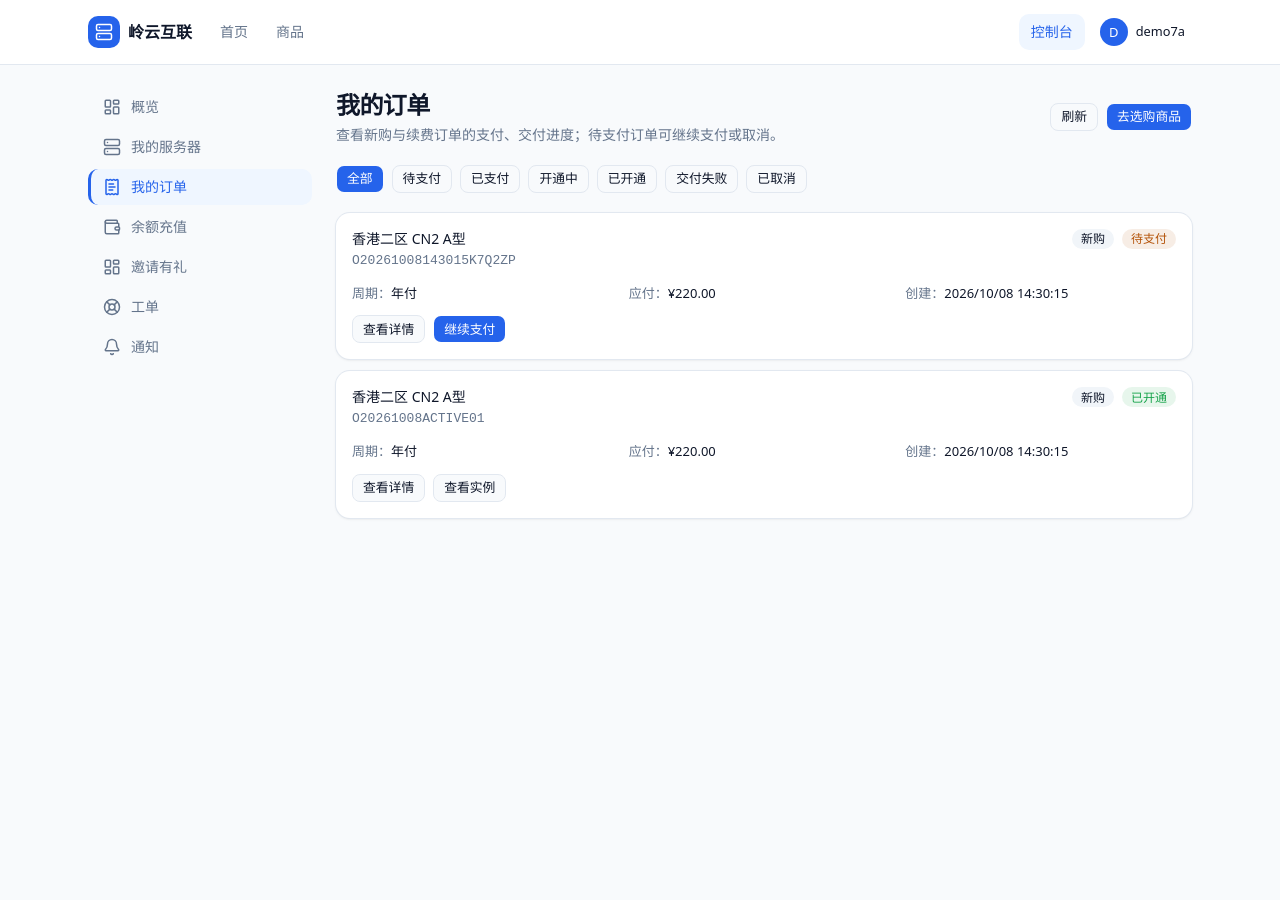
Test case: 会员区 · 我的订单 › 取消订单需二次确认，确认后提交取消请求并收起详情
The width and height of the screenshot is (1280, 900).
Expected: the heading "我的订单" is shown, [336,88,430,121]
Click the button "查看详情" below "O20261008143015K7Q2ZP" at (389, 329), box [352,315,425,343]
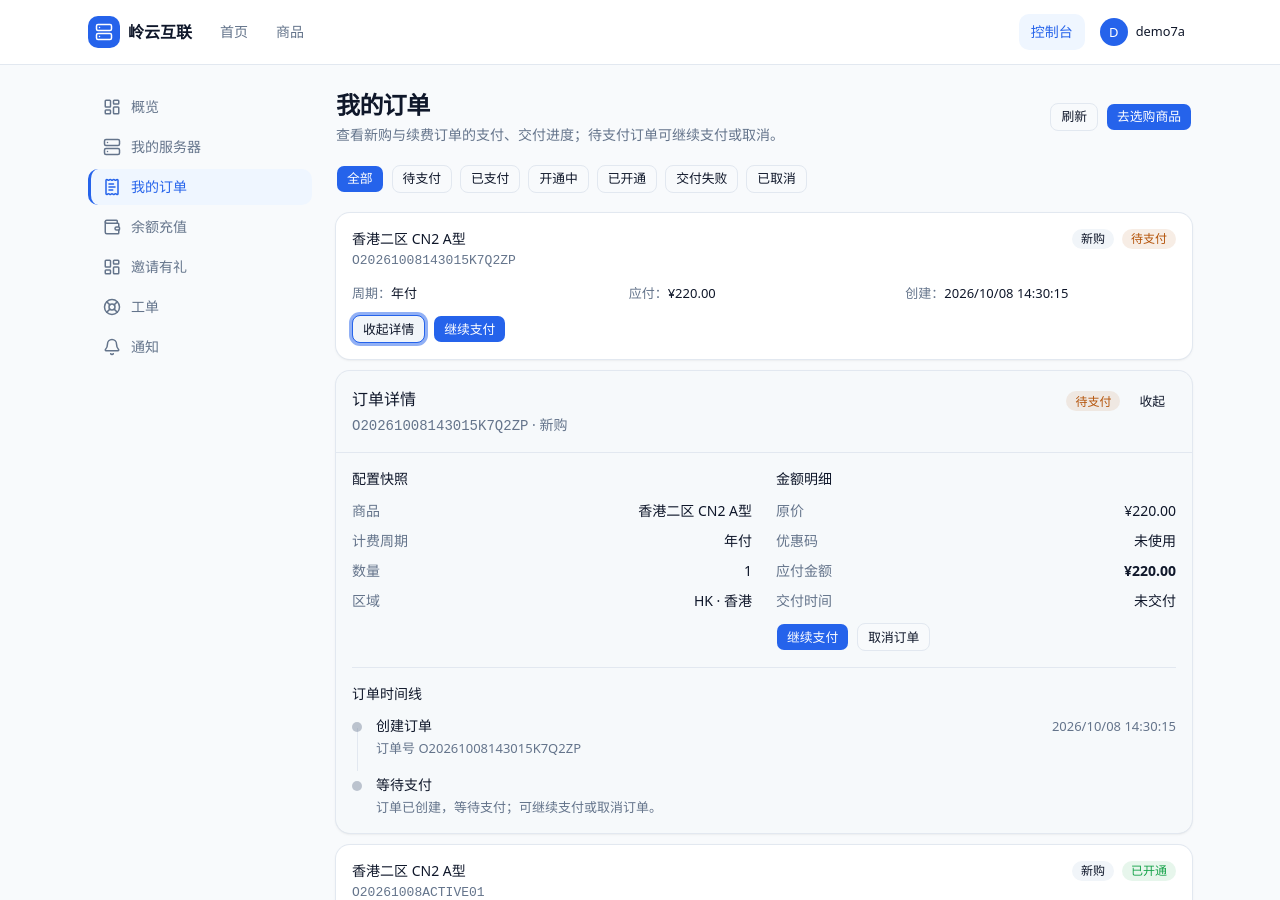
Click the button "取消订单" at (894, 637), box [857,623,930,651]
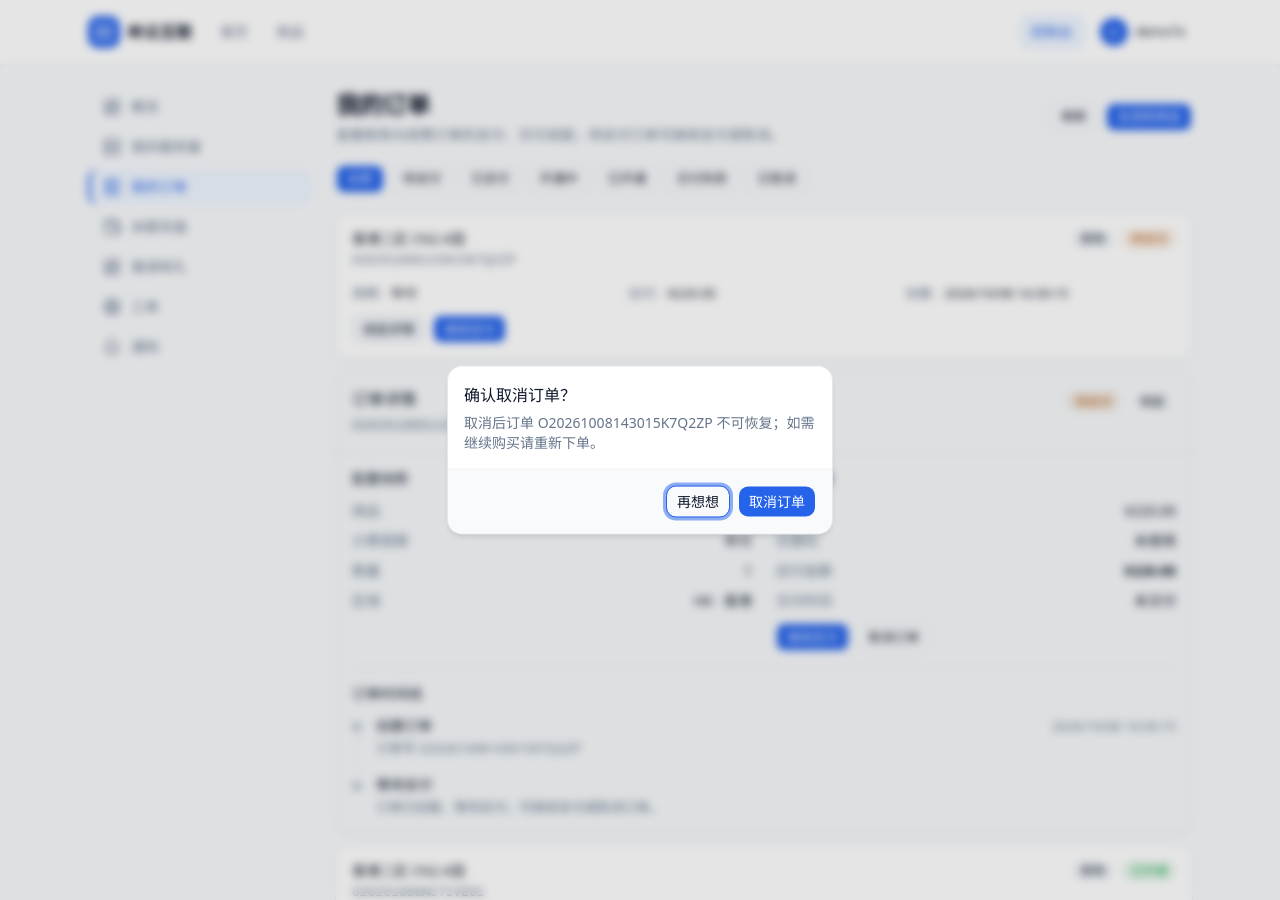
Expected: the heading "确认取消订单？" is shown, [464,382,576,406]
Click the button "取消订单" at (777, 502), box [738,486,816,518]
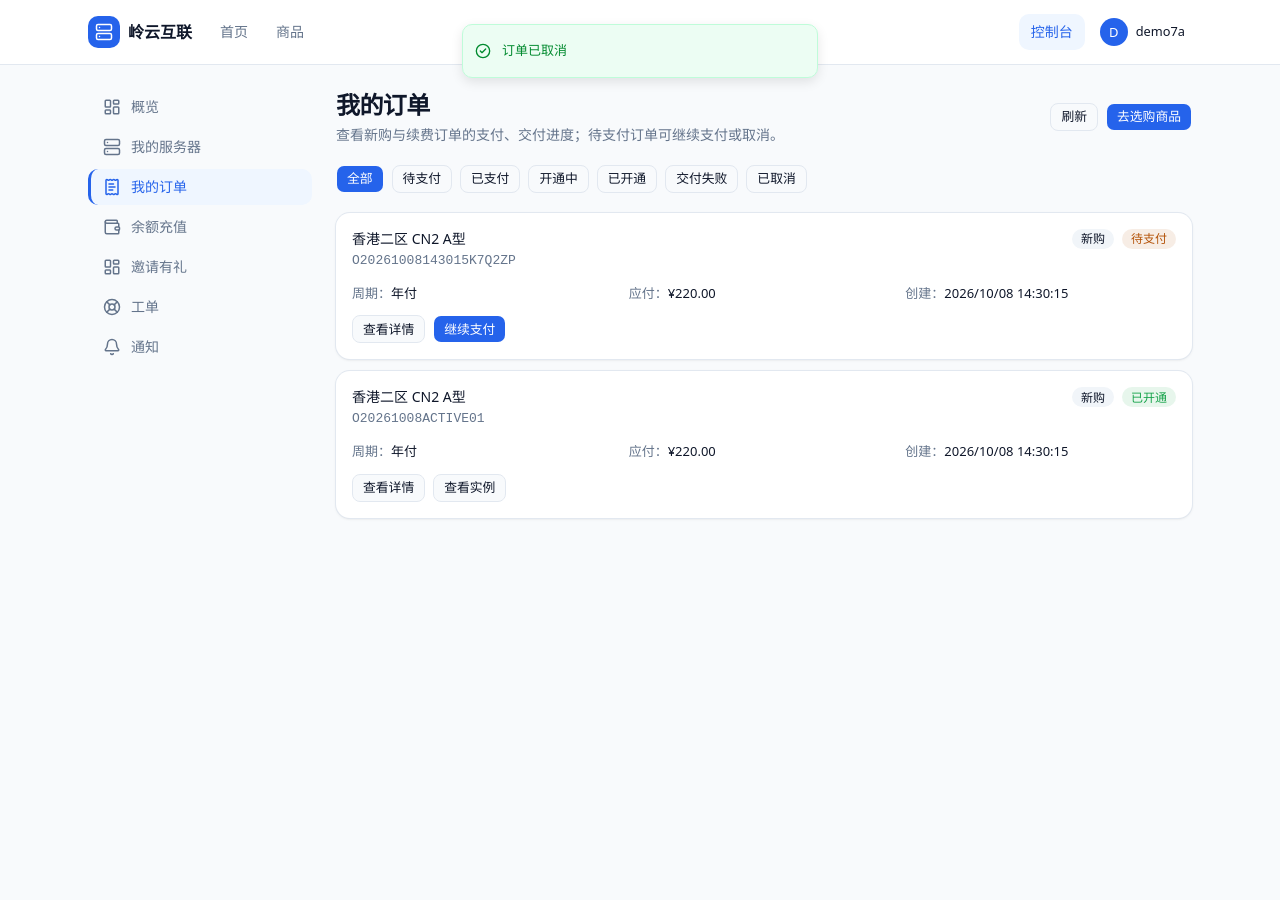
Expected: the element with test id "order-detail-panel" is gone
